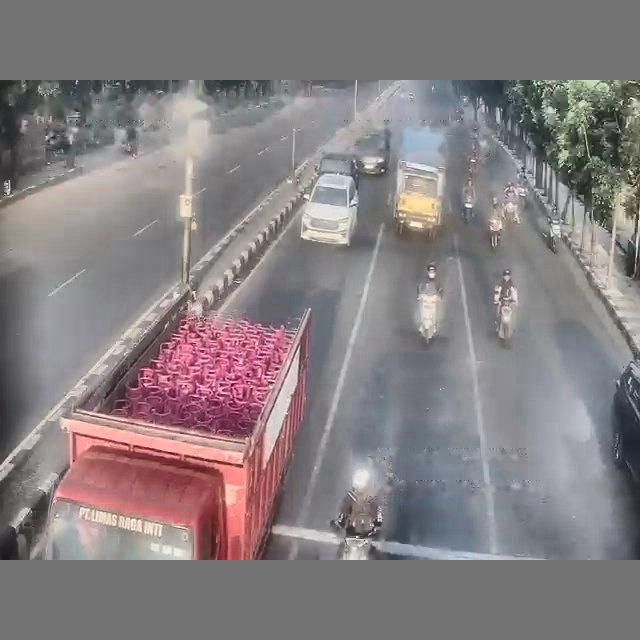Mobil: (300, 174, 358, 246), (612, 360, 639, 481), (354, 130, 390, 174), (316, 152, 358, 186)
Motor: (417, 291, 439, 343), (497, 299, 513, 346), (547, 217, 562, 253), (489, 216, 502, 249), (504, 198, 519, 223), (463, 196, 473, 222)
Truk: (42, 310, 310, 559), (393, 126, 447, 236)
